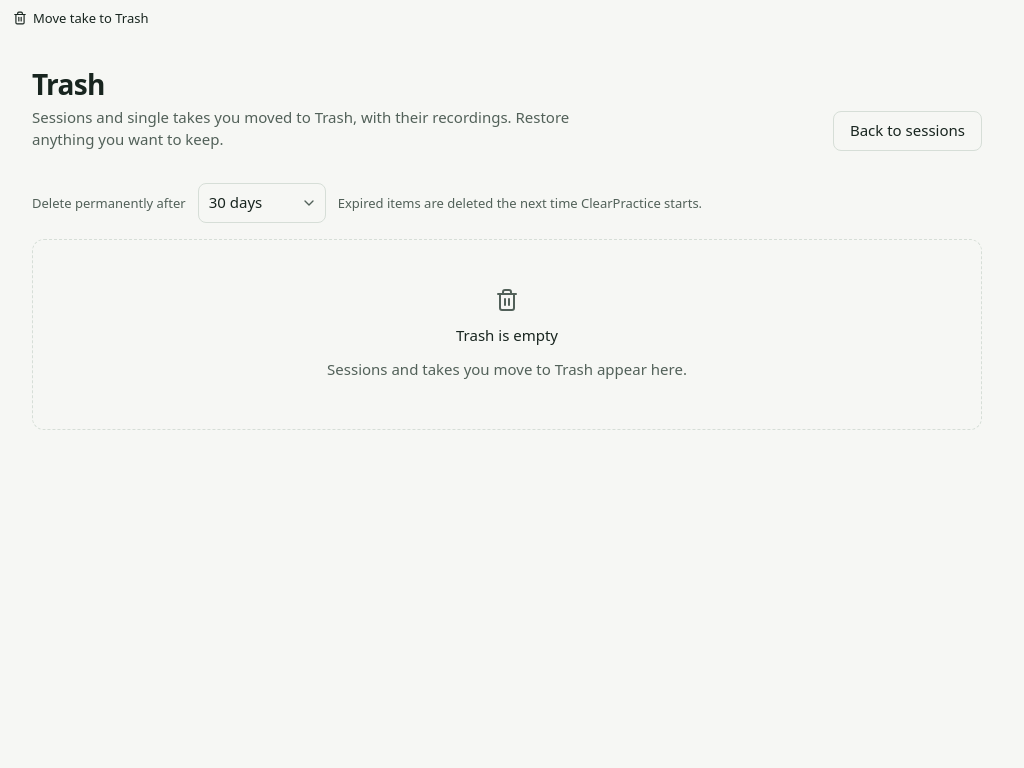
Test: single takes in Trash (2.23) › names the take and its length, moves only that take, and offers it back from Trash
expect the text "Trash is empty" is shown: met, box 456,324 -> 558,346
Click the button "Move take to Trash" at (81, 18), box 0,0 -> 162,36
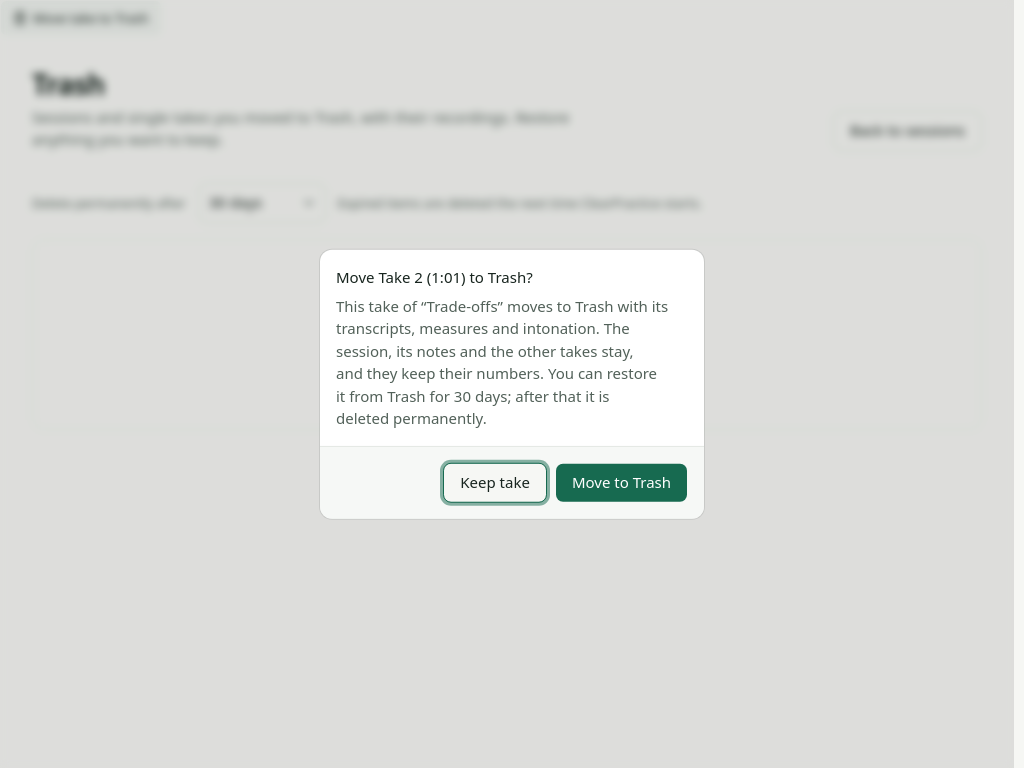
expect the dialog shows "Move Take 2 (1:01) to Trash?": met, box 320,250 -> 704,518
expect the dialog shows "The session, its notes and the other takes stay": met, box 336,295 -> 668,405
Click the button "Move to Trash" at (621, 482), box 555,462 -> 688,502
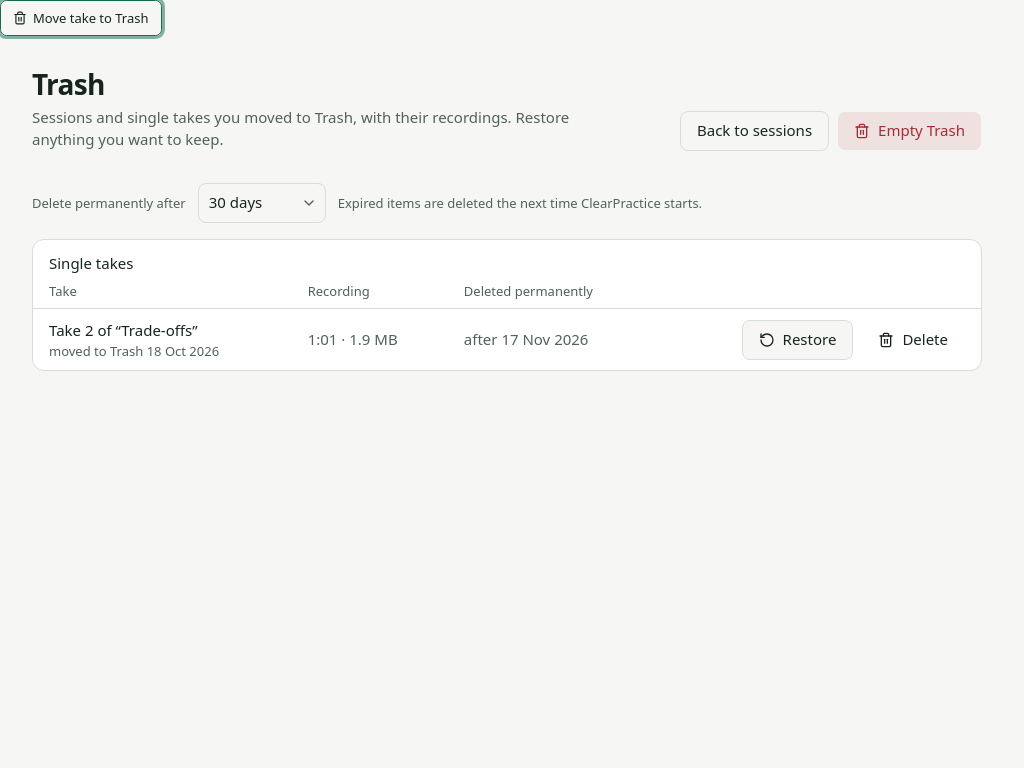
Click the button with aria-label "Delete take 2 of Trade-offs permanently" at (913, 340), box 861,320 -> 965,360
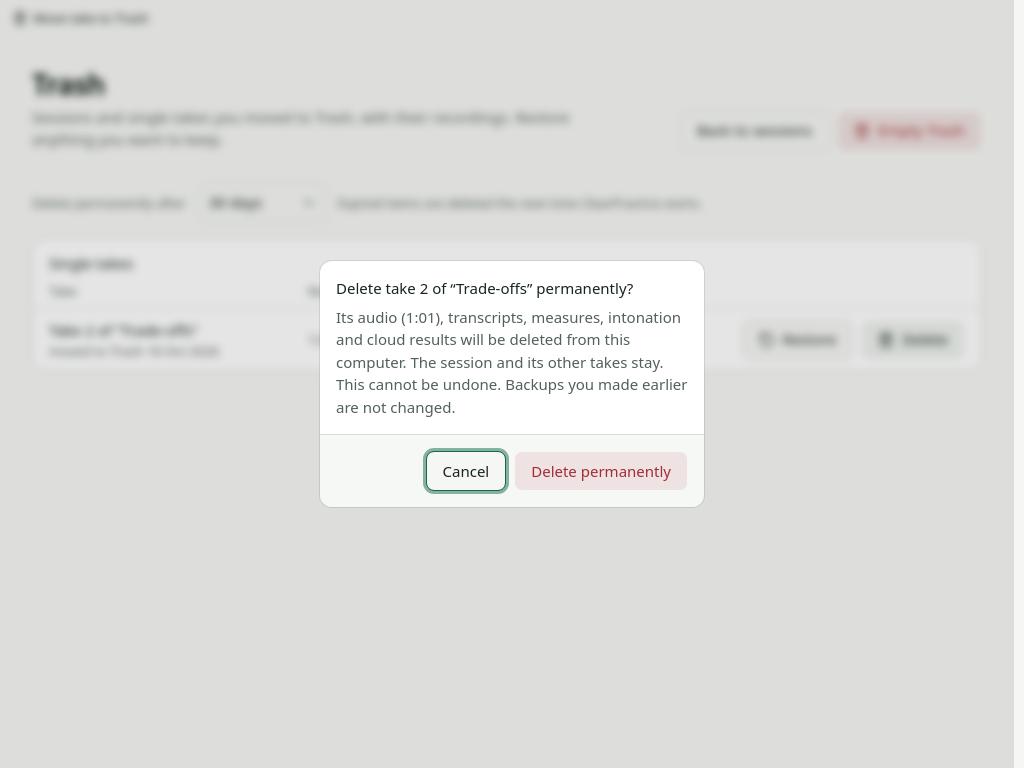
expect the dialog shows "The session and its other takes stay": met, box 336,306 -> 688,416
Click the button "Cancel" at (466, 471), box 426,451 -> 506,491
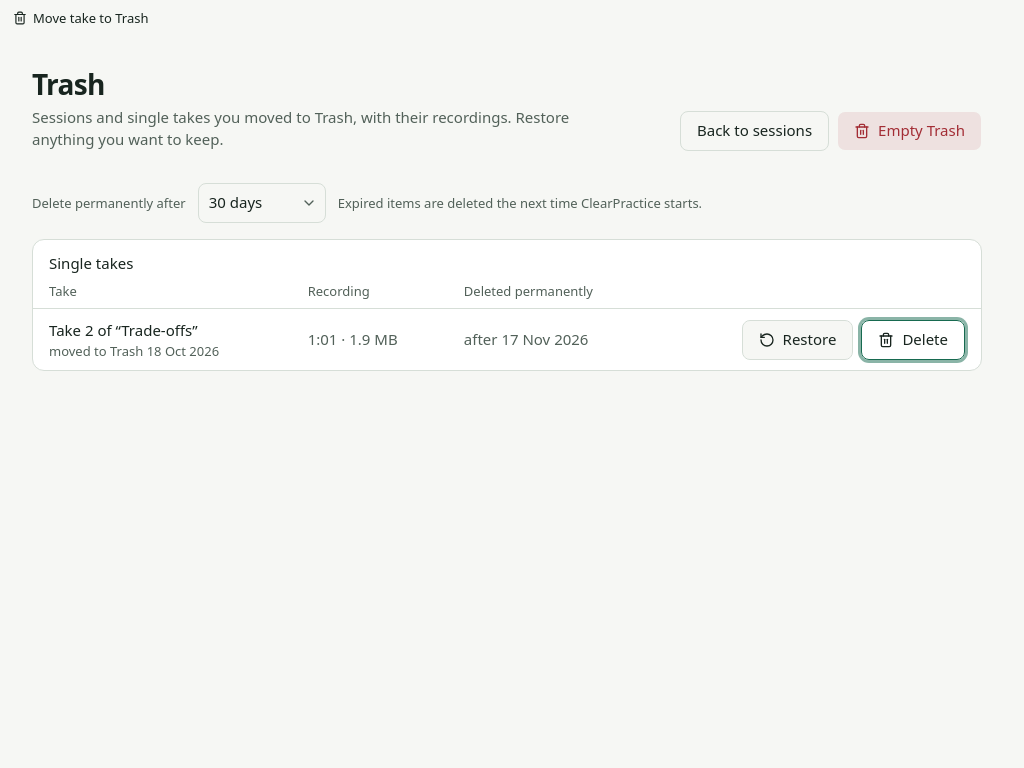
Click the button with aria-label "Restore take 2 of Trade-offs" at (797, 340), box 742,320 -> 853,360
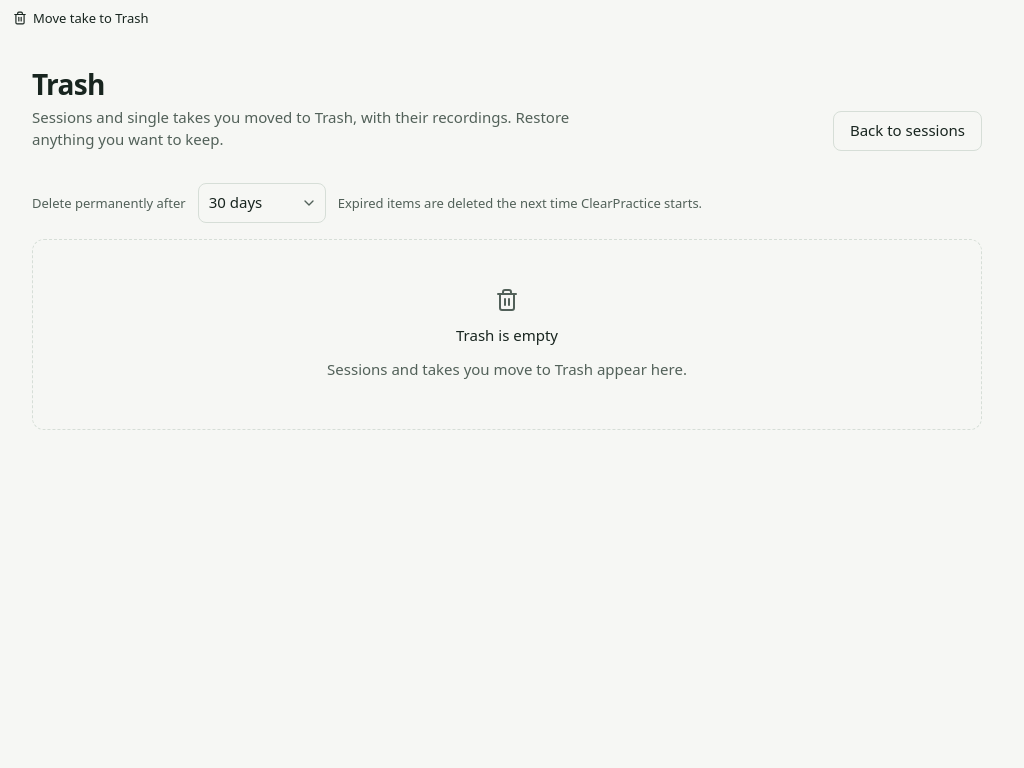
expect the text "Trash is empty" is shown: met, box 456,324 -> 558,346
